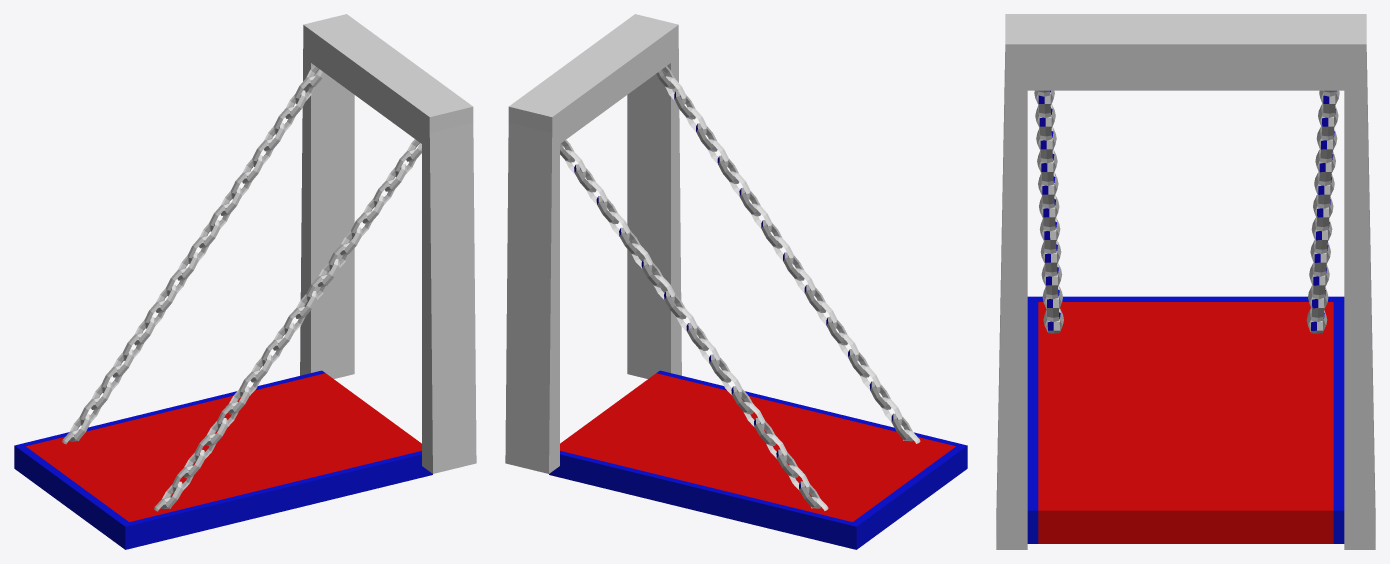
Rendered from PontLevi.FBX.
3 views of the same model, side by side, from view 1: azimuth 30°, elevation 25°; view 2: azimuth 150°, elevation 25°; view 3: azimuth 270°, elevation 25° (orthographic). The views are drawn at different scales.
Parts seen in each view (by area): view 1: Porte01_Support, Pont01Scene02; view 2: Porte01_Support, Pont01Scene02; view 3: Pont01Scene02, Porte01_Support.
Boxes of the visible parts, x1=… form: Porte01_Support: x1=300, y1=14, x2=476, y2=473; Pont01Scene02: x1=14, y1=370, x2=432, y2=549; Porte01_Support: x1=505, y1=14, x2=681, y2=473; Pont01Scene02: x1=549, y1=370, x2=967, y2=549; Pont01Scene02: x1=1027, y1=296, x2=1344, y2=543; Porte01_Support: x1=996, y1=14, x2=1375, y2=549.
Bounding box in the file's own units: 210 × 216 × 143.
